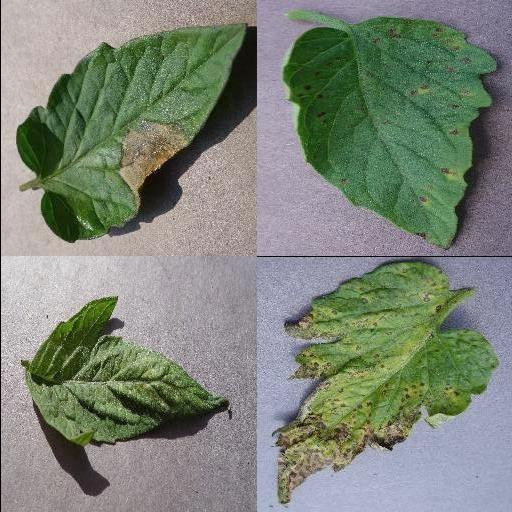Late Blight: (13, 22, 247, 244)
Septoria: (270, 262, 498, 504), (282, 20, 500, 249)
Spider Mites: (25, 297, 231, 444)
